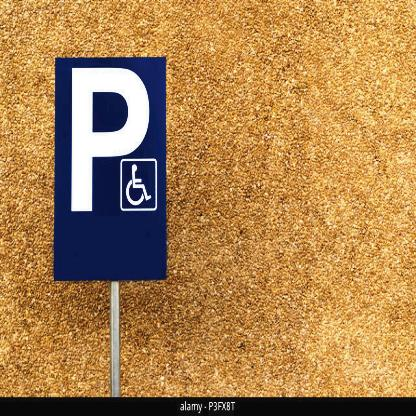Parking: (56, 53, 167, 238)
